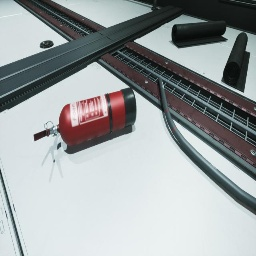FireExtinguisher ]: (33, 87, 137, 146)
